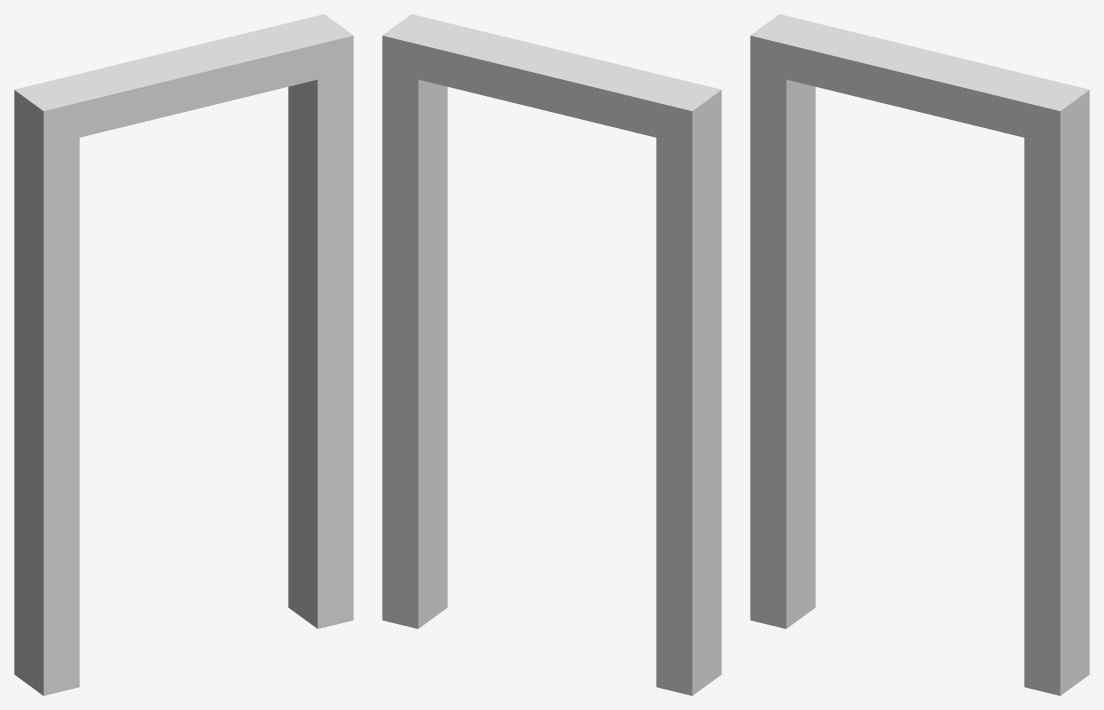
File: SM_door_frame_001.FBX
3 views of the same model, side by side, from view 1: azimuth 30°, elevation 25°; view 2: azimuth 150°, elevation 25°; view 3: azimuth 330°, elevation 25° (orthographic).
Parts seen in each view (by area): view 1: SM_door_frame_001; view 2: SM_door_frame_001; view 3: SM_door_frame_001.
Part boxes in pixels (x1,y1,x2,y2): SM_door_frame_001: (14, 14, 353, 695); SM_door_frame_001: (382, 14, 721, 695); SM_door_frame_001: (750, 14, 1089, 695).
Size of the model in its own units: 134 by 22.04 by 241.
